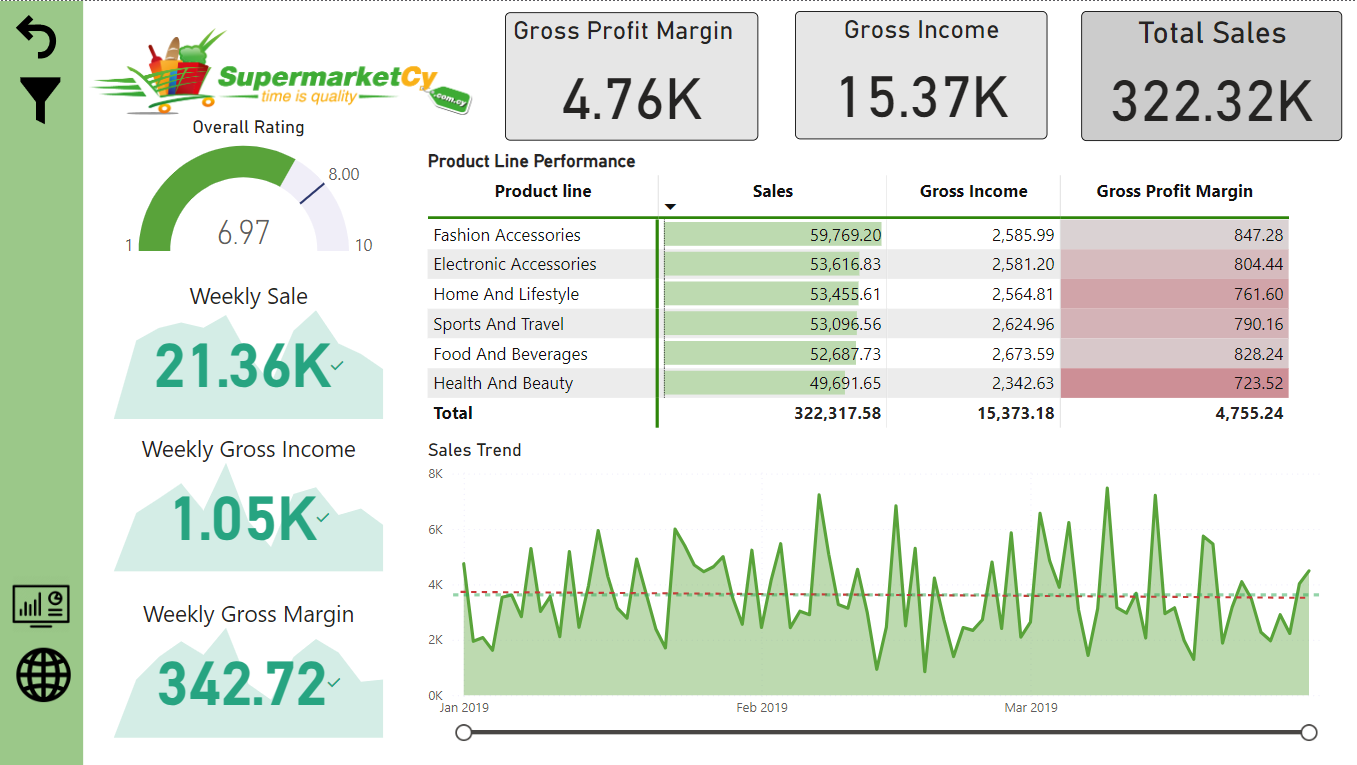

The dashboard page shown, as its layout file describes it:
{"tool":"powerbi","page":{"name":"Exec Dashboard","canvas":[1280,720],"ordinal":0},"visuals":[{"type":"shape","box":[0,0,78.3,720.2],"z":0},{"type":"shape","box":[0,0,237.9,720.7],"z":0,"group":"g1"},{"type":"slicer","fields":{"Values":["Supermarket_Dataset.Date.Variation.Date Hierarchy.Month"]},"box":[5.6,67.8,205.6,148.9],"z":1000,"group":"g1"},{"type":"gauge","title":"Overall Rating","fields":{"Y":["Avg(Supermarket_Dataset.Rating)"]},"box":[107.6,108.8,253.8,141.2],"z":1000},{"type":"pivotTable","title":"Product Line Performance","fields":{"Rows":["Supermarket_Dataset.Product line"],"Values":["Sum(Supermarket_Dataset.Total)","Sum(Supermarket_Dataset.gross income)","Sum(Supermarket_Dataset.gross margin percentage)"]},"box":[397.8,140,864.4,268.9],"z":2000},{"type":"slicer","fields":{"Values":["Supermarket_Dataset.Product line"]},"box":[5.6,249.1,206.3,219.8],"z":2000,"group":"g1"},{"type":"actionButton","box":[187,0,100.4,39.8],"z":3000,"group":"g1"},{"type":"card","title":"Total Sales","fields":{"Values":["Sum(Supermarket_Dataset.Total)"]},"box":[1017.5,9.8,245.3,122.6],"z":3000},{"type":"image","box":[78.3,17.1,370.5,97.8],"z":4000},{"type":"card","title":"Gross Income","fields":{"Values":["Sum(Supermarket_Dataset.gross income)"]},"box":[748.7,9.6,237.2,121.1],"z":5000},{"type":"card","title":"Gross Profit Margin","fields":{"Values":["Sum(Supermarket_Dataset.gross margin percentage)"]},"box":[474.8,10.8,238.5,121.1],"z":6000},{"type":"areaChart","title":"Sales Trend","fields":{"Category":["Supermarket_Dataset.Date.Variation.Date Hierarchy.Year","Supermarket_Dataset.Date.Variation.Date Hierarchy.Month","Supermarket_Dataset.Date.Variation.Date Hierarchy.Day"],"Y":["Sum(Supermarket_Dataset.Total)"]},"box":[397.8,412.2,865.6,287.8],"z":7000},{"type":"kpi","title":"Weekly Sale","fields":{"Indicator":["Sum(Supermarket_Dataset.Total)"],"TrendLine":["Supermarket_Dataset.Start of Week"],"Goal":["Supermarket_Dataset.PreviousMonthSales"]},"box":[107.6,262.5,253.8,131.2],"z":8000},{"type":"kpi","title":"Weekly Gross Income","fields":{"TrendLine":["Supermarket_Dataset.Start of Week"],"Goal":["Supermarket_Dataset.PreviousMonthSales"],"Indicator":["Sum(Supermarket_Dataset.gross income)"]},"box":[107.6,406.3,253.8,131.2],"z":9000},{"type":"kpi","title":"Weekly Gross Margin","fields":{"TrendLine":["Supermarket_Dataset.Start of Week"],"Goal":["Supermarket_Dataset.PreviousMonthSales"],"Indicator":["Sum(Supermarket_Dataset.gross margin percentage)"]},"box":[107.6,561.3,253.8,132.5],"z":10000},{"type":"image","box":[0,67.3,75.8,53.8],"z":11000},{"type":"actionButton","box":[9.8,8.6,53.8,50.1],"z":12000},{"type":"image","box":[7.5,517.5,63.8,100],"z":12500},{"type":"image","box":[10,587.5,61.2,93.8],"z":12750},{"type":"group","id":"g1","title":"Slicer","box":[0,0,287.5,720.7],"z":13000}]}

Visuals, with their boxes in screenshot pixels (x1, y1, x2, y2), scaled from the page's 1280x720 canvas onto the 1357x765 screenshot:
shape: [left=0, top=0, right=83, bottom=764]
shape: [left=0, top=0, right=252, bottom=764]
slicer - Supermarket_Dataset.Date.Variation.Date Hierarchy.Month: [left=6, top=72, right=224, bottom=230]
"Overall Rating" gauge: [left=114, top=116, right=383, bottom=266]
"Product Line Performance" pivotTable: [left=422, top=149, right=1338, bottom=434]
slicer - Supermarket_Dataset.Product line: [left=6, top=265, right=225, bottom=498]
actionButton: [left=198, top=0, right=305, bottom=42]
"Total Sales" card: [left=1079, top=10, right=1339, bottom=141]
image: [left=83, top=18, right=476, bottom=122]
"Gross Income" card: [left=794, top=10, right=1045, bottom=139]
"Gross Profit Margin" card: [left=503, top=11, right=756, bottom=140]
"Sales Trend" areaChart: [left=422, top=438, right=1339, bottom=744]
"Weekly Sale" kpi: [left=114, top=279, right=383, bottom=418]
"Weekly Gross Income" kpi: [left=114, top=432, right=383, bottom=571]
"Weekly Gross Margin" kpi: [left=114, top=596, right=383, bottom=737]
image: [left=0, top=72, right=80, bottom=129]
actionButton: [left=10, top=9, right=67, bottom=62]
image: [left=8, top=550, right=76, bottom=656]
image: [left=11, top=624, right=75, bottom=724]
"Slicer" group: [left=0, top=0, right=305, bottom=764]
